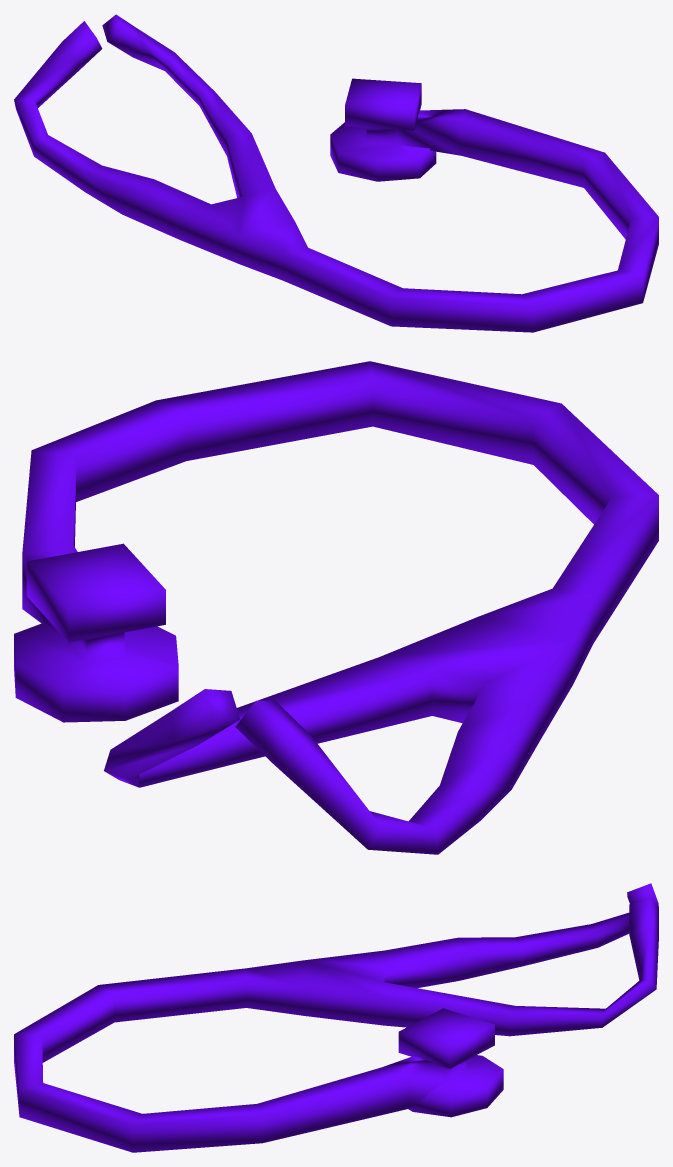
The model's file is hospital_staff_stethoscope_1_meshCollider.fbx.
The picture shows the model from 3 angles, top to bottom: view 1: azimuth 30°, elevation 25°; view 2: azimuth 150°, elevation 25°; view 3: azimuth 270°, elevation 25°; orthographic projection. The views are drawn at different scales.
Visible parts, largest first — view 1: hospital_staff_stethoscope_1_meshCollider; view 2: hospital_staff_stethoscope_1_meshCollider; view 3: hospital_staff_stethoscope_1_meshCollider.
Part boxes in pixels (x1=…): hospital_staff_stethoscope_1_meshCollider: x1=14, y1=14, x2=658, y2=332; hospital_staff_stethoscope_1_meshCollider: x1=14, y1=361, x2=658, y2=854; hospital_staff_stethoscope_1_meshCollider: x1=14, y1=883, x2=658, y2=1152.
Bounding box in the file's own units: 21.31 × 5.64 × 28.98.
